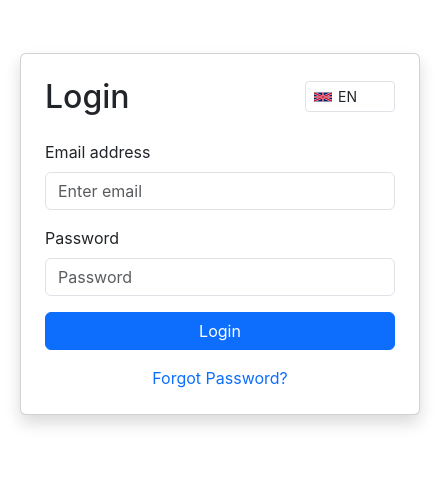
Login Component › displays custom error message from API response
In the field labelled "Email address": (220, 191) [45,172,395,210], type "test@example.com"
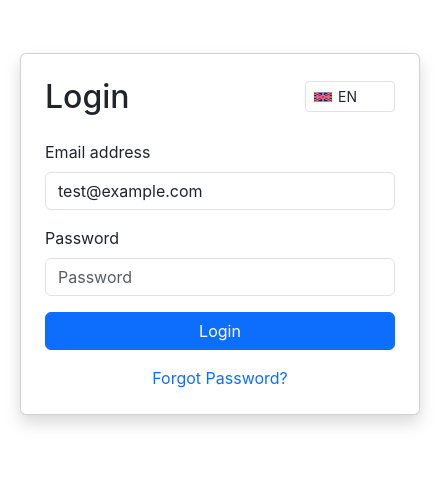
In the password field labelled "Password": (220, 277) [45,258,395,296], type "password123"
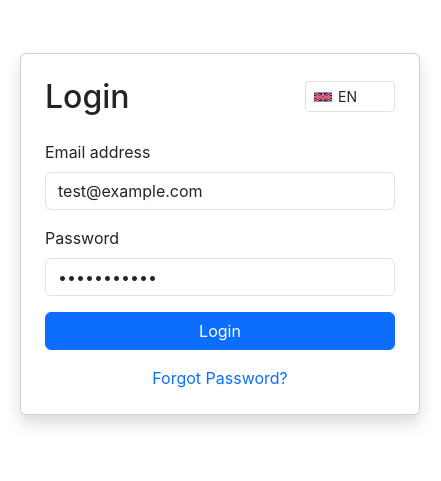
Click the button "Login": (220, 331) [45,312,395,350]
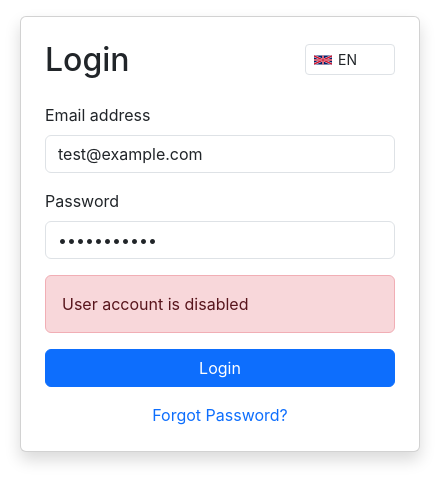
Expected: the text "User account is disabled" is shown, [45,275,395,333]
